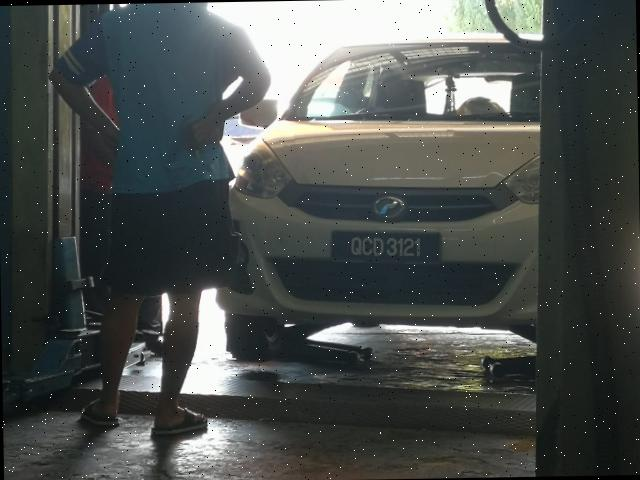License_Plate: (332, 228, 444, 269)
car: (225, 25, 558, 359)
